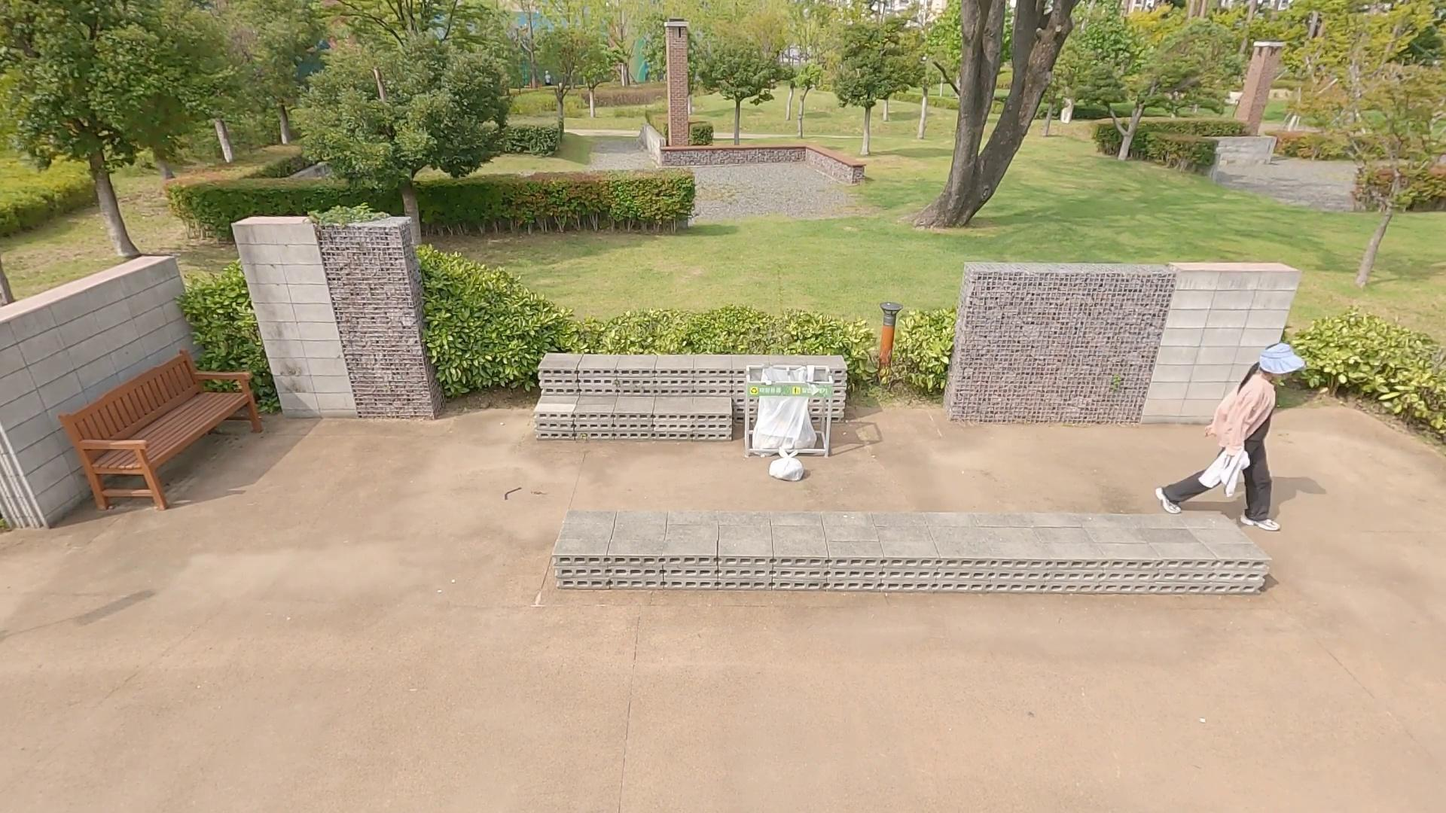person: (1152, 341, 1309, 535)
trash: (764, 446, 806, 483)
